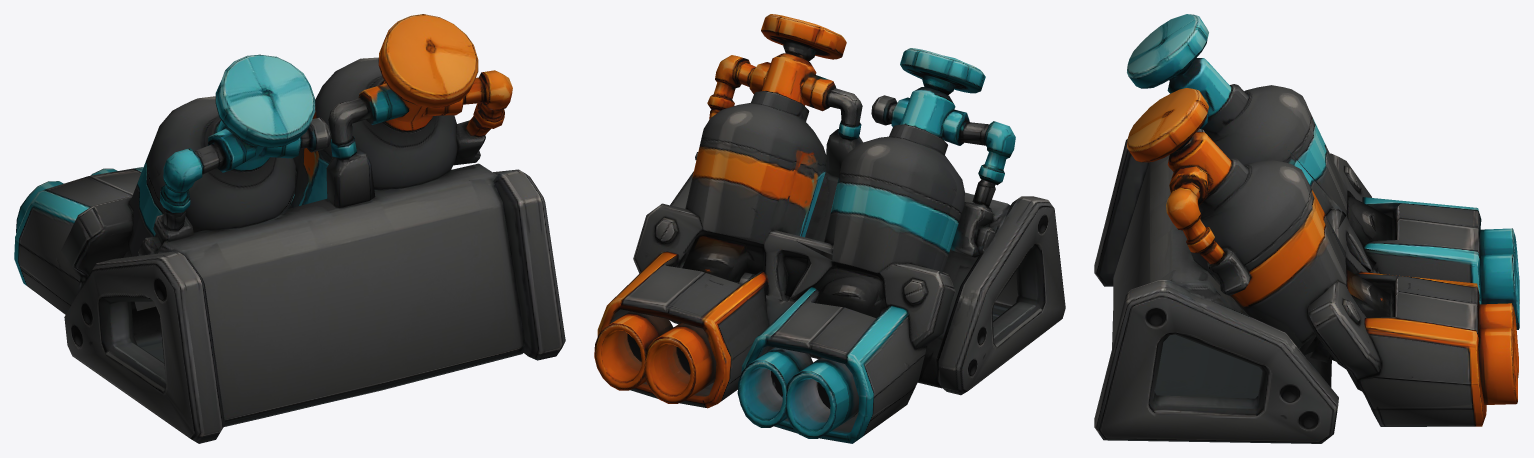
File: blitz-nitro_kit.glb
The picture shows the model from 3 angles, left to right: view 1: azimuth 30°, elevation 25°; view 2: azimuth 150°, elevation 25°; view 3: azimuth 270°, elevation 25°; orthographic projection. The views are drawn at different scales.
Parts seen in each view (by area): view 1: tripo_node_76213b10-5be5-43fa-8f16-c10a56eb1878; view 2: tripo_node_76213b10-5be5-43fa-8f16-c10a56eb1878; view 3: tripo_node_76213b10-5be5-43fa-8f16-c10a56eb1878.
Boxes of the visible parts, box(x1,y1,x2,y2) form: tripo_node_76213b10-5be5-43fa-8f16-c10a56eb1878: box(14, 14, 565, 443); tripo_node_76213b10-5be5-43fa-8f16-c10a56eb1878: box(594, 14, 1065, 443); tripo_node_76213b10-5be5-43fa-8f16-c10a56eb1878: box(1094, 14, 1519, 443).
Size of the model in its own units: 0.5014 by 0.42 by 0.5197.
1 material, 1 textured.
